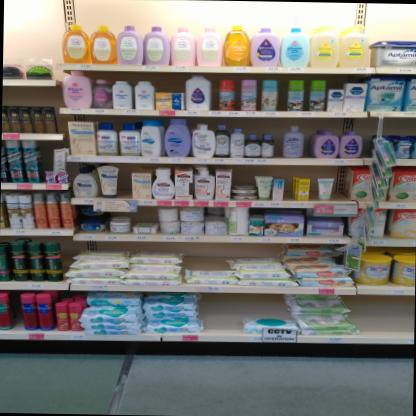empty_space: (358, 297, 415, 340), (200, 293, 241, 337)
